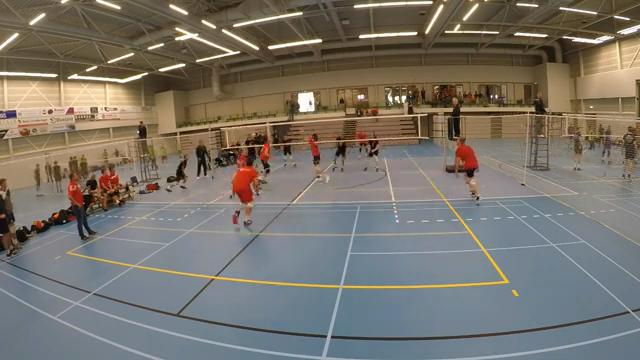alzata: (296, 123, 331, 185)
